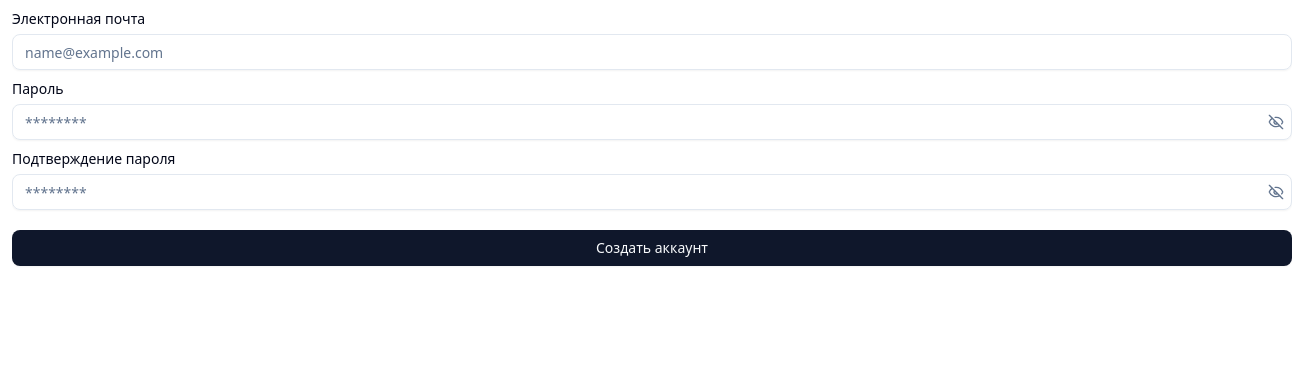
Test case: SignUpForm › shows validation errors for empty submit
Click the button "Создать аккаунт". click: (652, 248)
box: [12, 230, 1292, 266]
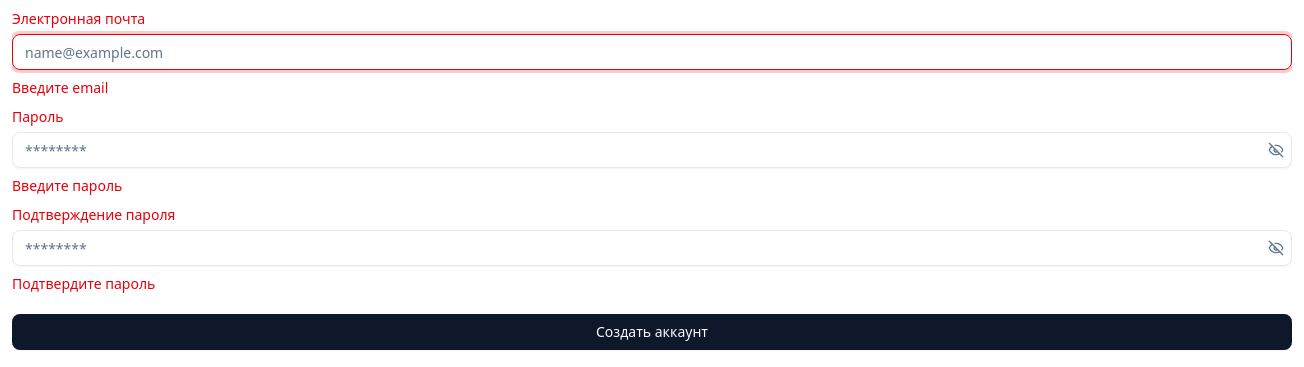
Expected: the text "Введите email" is shown, [12, 78, 108, 97]
Expected: the text "Введите пароль" is shown, [12, 176, 122, 195]
Expected: the text "Подтвердите пароль" is shown, [12, 274, 155, 293]
